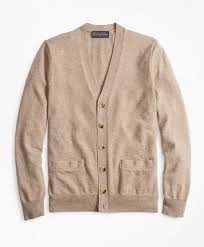S_cardigan sweater: (18, 24, 185, 226)
